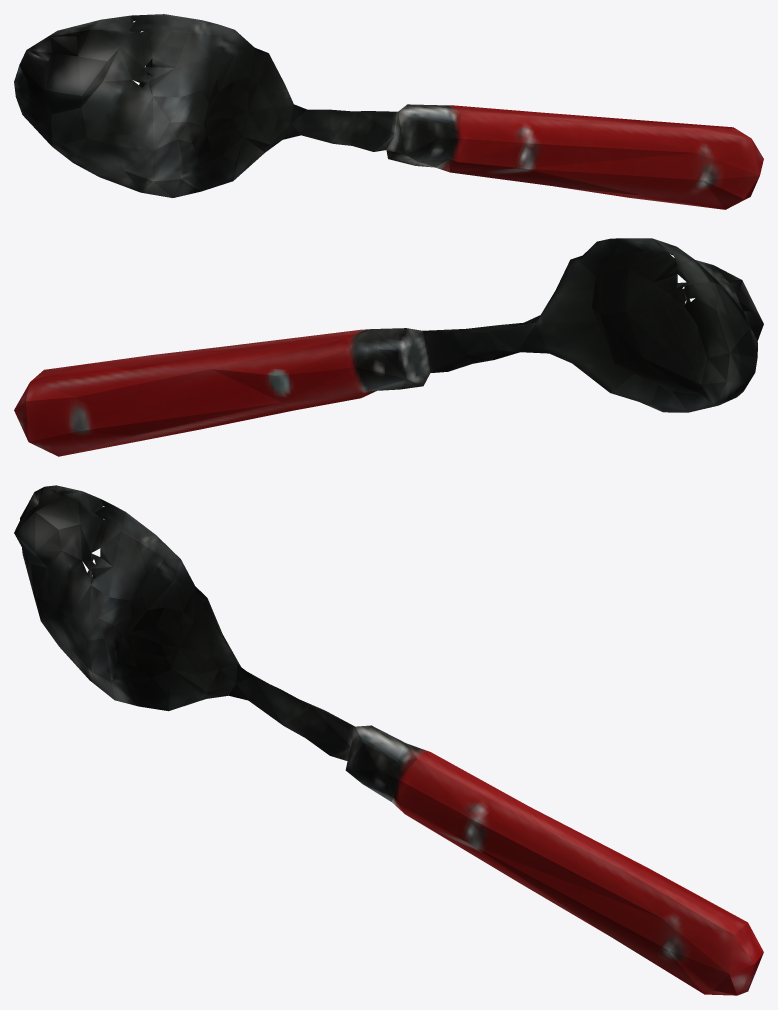
Rendered from 031_spoon.obj.
3 views of the same model, one above another, from view 1: azimuth 30°, elevation 25°; view 2: azimuth 150°, elevation 25°; view 3: azimuth 330°, elevation 25° (orthographic). The views are drawn at different scales.
Parts seen in each view (by area): view 1: 031_spoon; view 2: 031_spoon; view 3: 031_spoon.
Part boxes in pixels (x1,y1,x2,y2): 031_spoon: [14, 14, 763, 209]; 031_spoon: [14, 238, 763, 456]; 031_spoon: [14, 485, 763, 995].
Bounding box in the file's own units: 0.186 × 0.0824 × 0.0205.
1 material, 1 textured.
